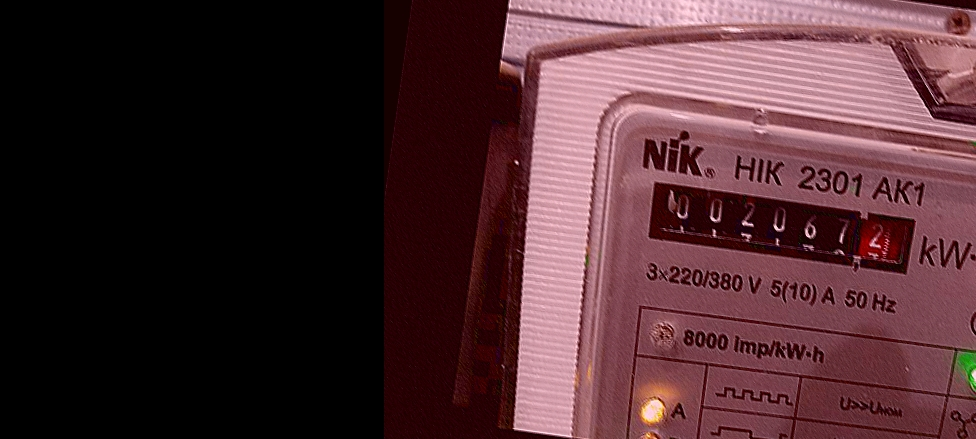0: (672, 191, 694, 222), (768, 202, 790, 233), (706, 194, 727, 225)
2: (866, 219, 888, 250), (739, 198, 759, 229)
6: (801, 210, 822, 241)
7: (833, 214, 853, 246)
screen: (632, 167, 932, 289)
